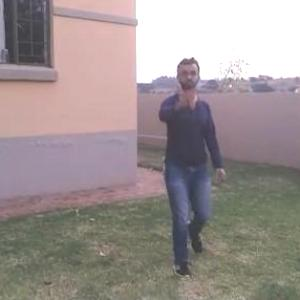takeoff-hand: (172, 81, 200, 112)
